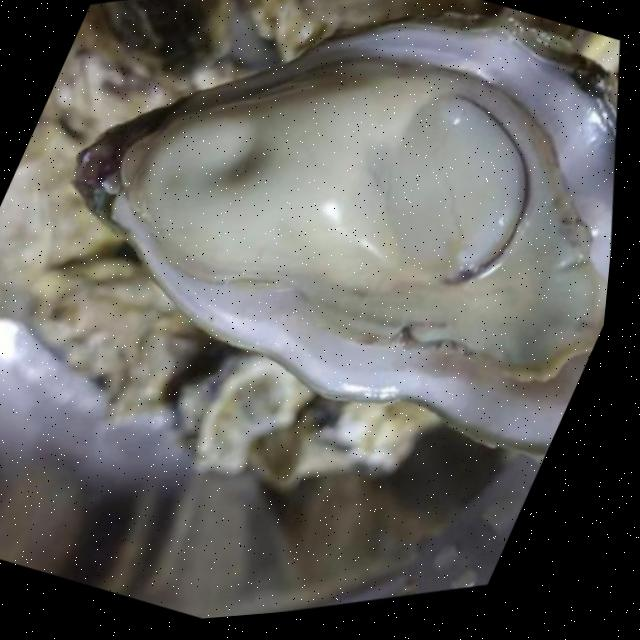Oyster-Indeterminate: (0, 198, 273, 460), (231, 354, 454, 542), (141, 323, 334, 503)
Oyster-Open: (0, 0, 640, 508)
